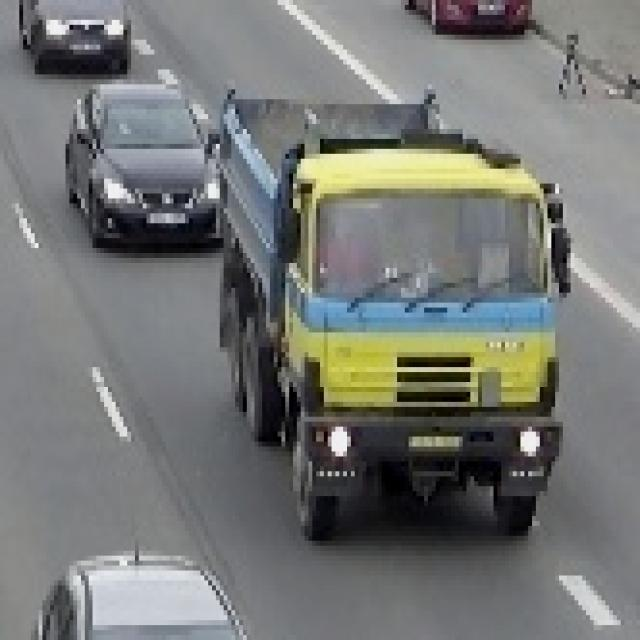truck: (201, 85, 568, 537)
